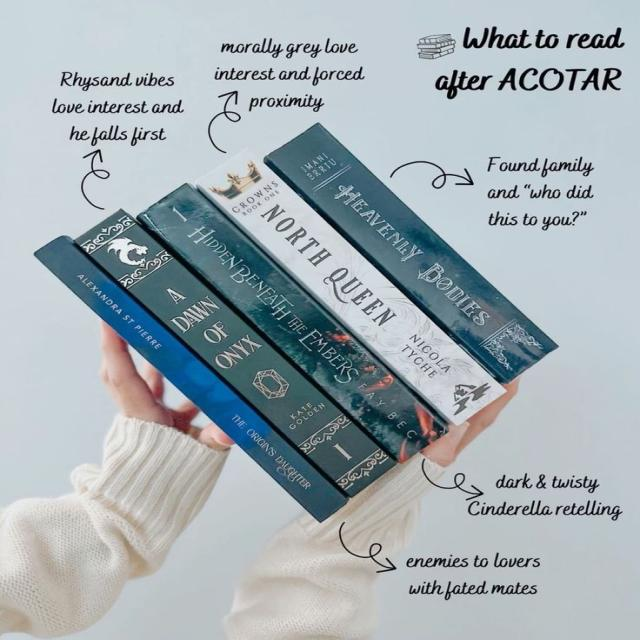book: (74, 210, 397, 497), (35, 236, 349, 523), (137, 183, 451, 463), (193, 148, 506, 427), (268, 123, 559, 383)
